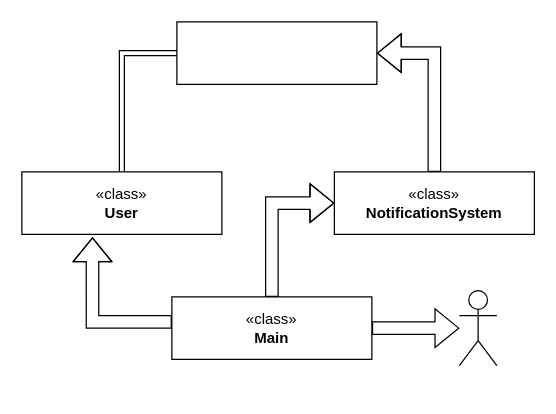
This 556x414 diagram has some shape labels left out. The shapes that lost their labels are listed below. From the top down, each one's centre as x and y in pixels, then its label:
pixel 276 52: «interface» NotificationObserver
pixel 477 327: Client
